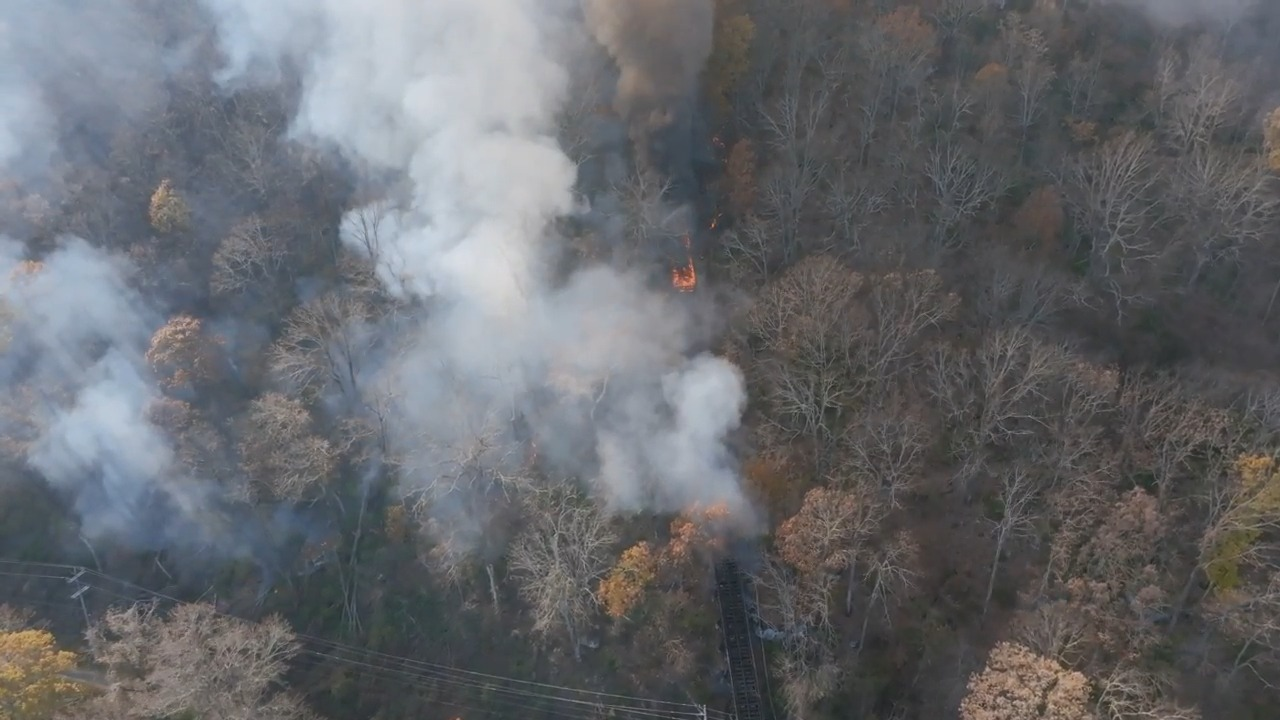fire: (671, 235, 697, 293), (671, 260, 697, 293), (709, 211, 723, 230), (711, 134, 725, 149)
smoke: (207, 0, 749, 526), (0, 237, 238, 552), (0, 0, 195, 183), (583, 0, 713, 198), (583, 0, 713, 119)
